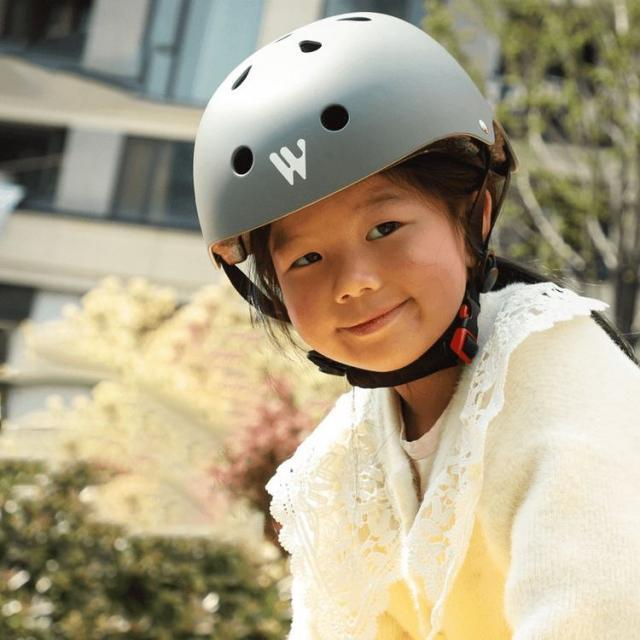Helmet: (187, 0, 522, 389)
